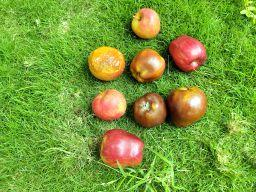apple: (94, 120, 151, 175), (166, 77, 211, 135), (162, 30, 213, 79), (123, 44, 167, 86), (91, 83, 128, 128), (82, 45, 127, 81), (126, 3, 167, 41), (131, 92, 170, 129)
